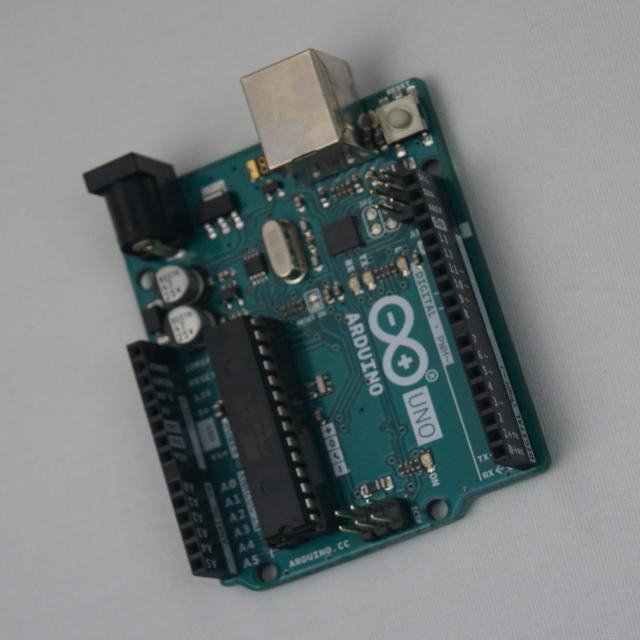Arduino Uno -Green-: (85, 50, 550, 589)
